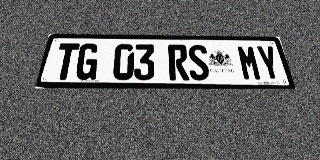0: (112, 44, 134, 80)
3: (134, 44, 154, 80)
G: (74, 43, 100, 80)
M: (236, 45, 263, 81)
R: (168, 44, 190, 80)
S: (187, 45, 210, 80)
T: (52, 43, 80, 80)
Y: (255, 45, 283, 81)
